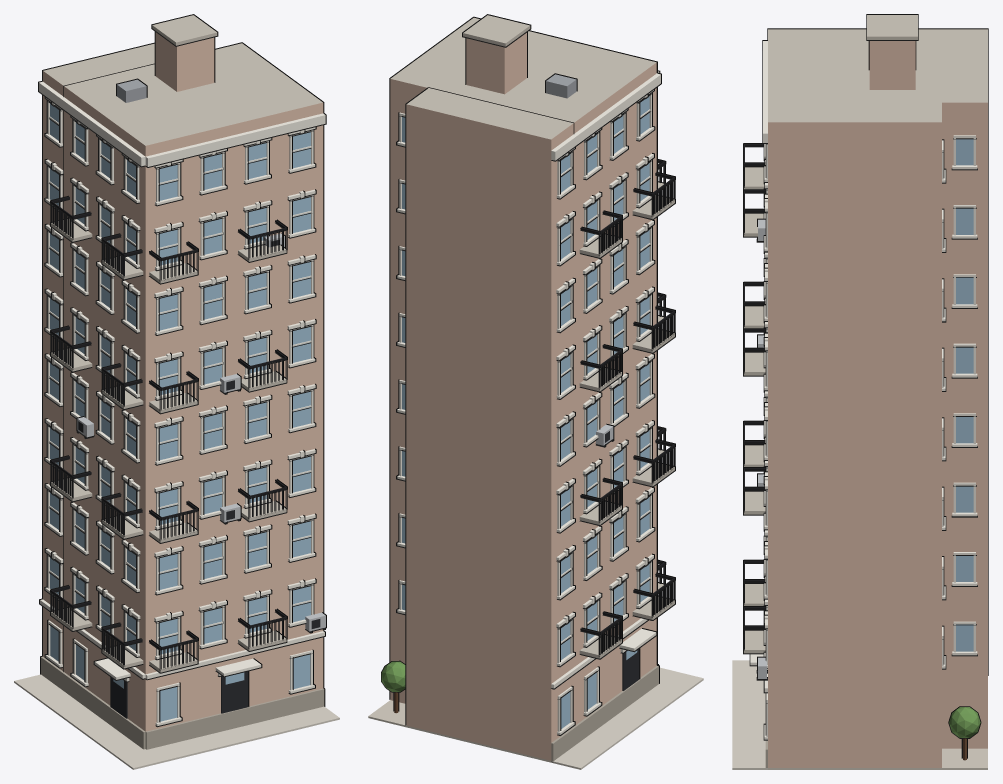
Rendered from Blok_kose_9k_3.fbx.
3 renders of one model, left to right at view 1: azimuth 30°, elevation 25°; view 2: azimuth 150°, elevation 25°; view 3: azimuth 270°, elevation 25°, orthographic. The views are drawn at different scales.
Parts seen in each view (by area): view 1: Blok_kose_9k_3; view 2: Blok_kose_9k_3; view 3: Blok_kose_9k_3.
Part boxes in pixels (x1=…): Blok_kose_9k_3: x1=14, y1=14, x2=339, y2=769; Blok_kose_9k_3: x1=368, y1=14, x2=703, y2=769; Blok_kose_9k_3: x1=732, y1=14, x2=988, y2=769.
Size of the model in its own units: 10.03 by 30.36 by 10.03.
